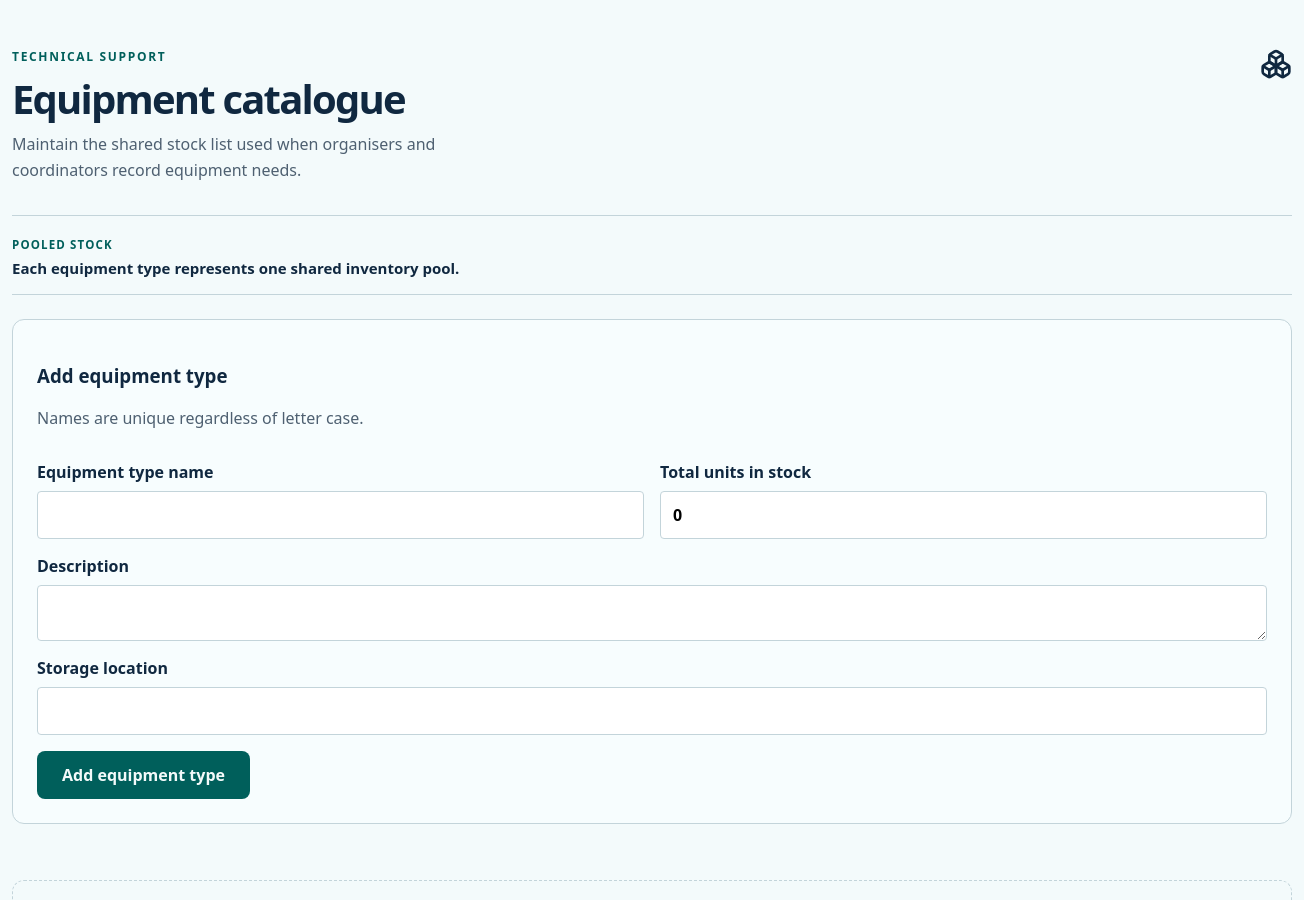
Scenario: EquipmentCatalogue › creates an equipment type and refreshes the catalogue
Type "Wireless Microphone" into the field labelled "Equipment type name" at (340, 515), box [37,491,644,539]
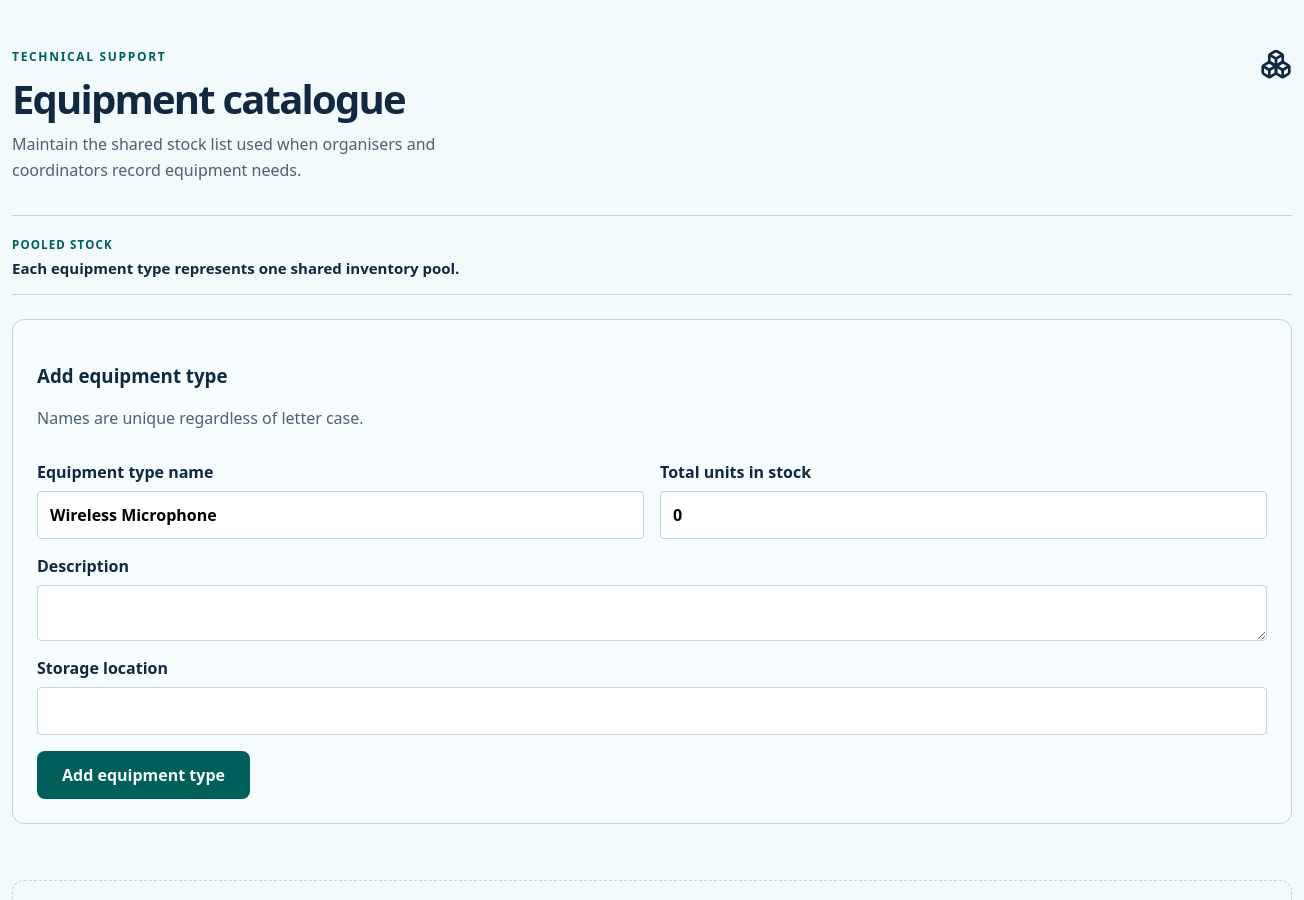
Type "Handheld wireless microphone." into the text box labelled "Description" at (652, 613), box [37,585,1267,641]
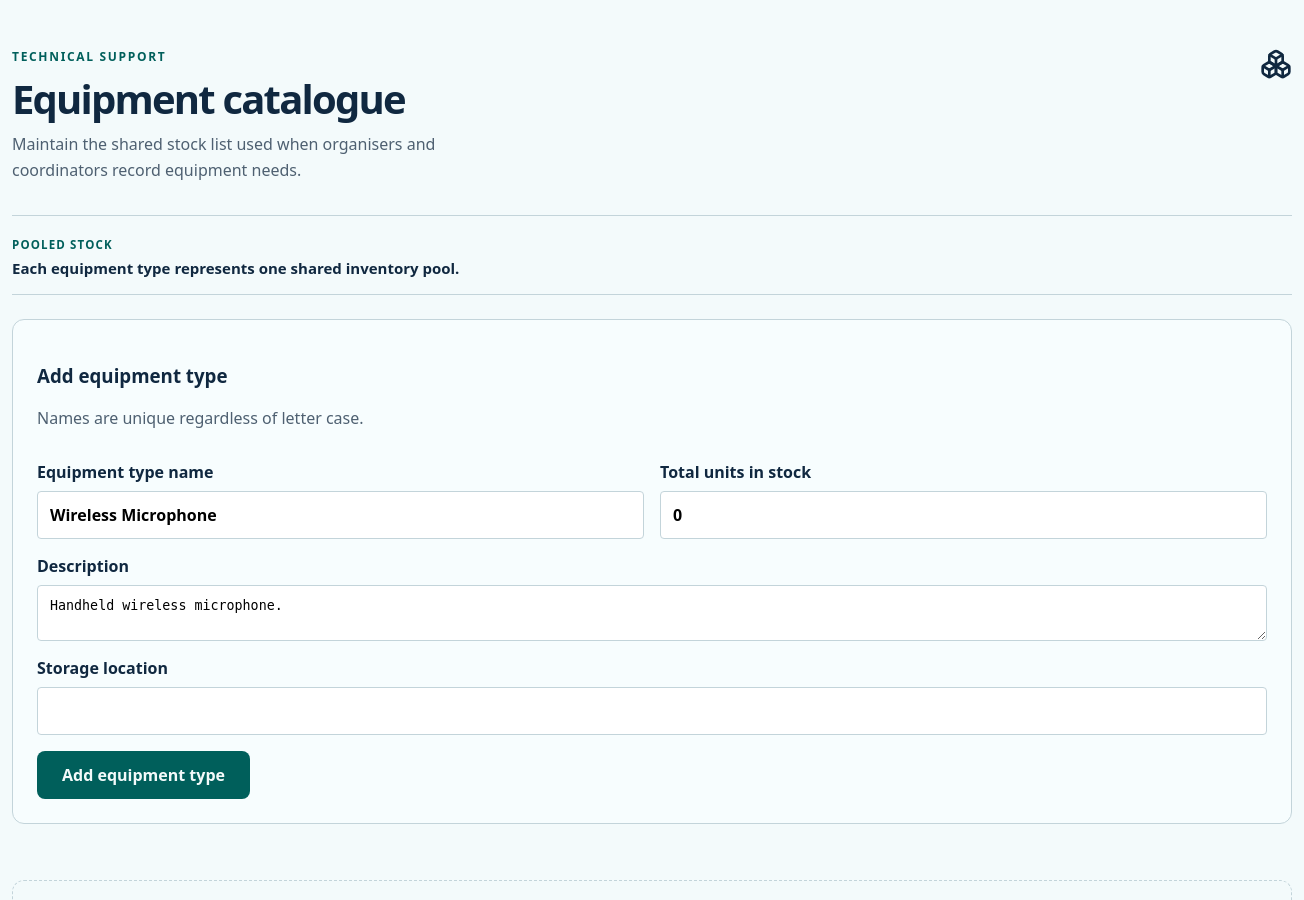
Type "Technical Store A" into the field labelled "Storage location" at (652, 711), box [37,687,1267,735]
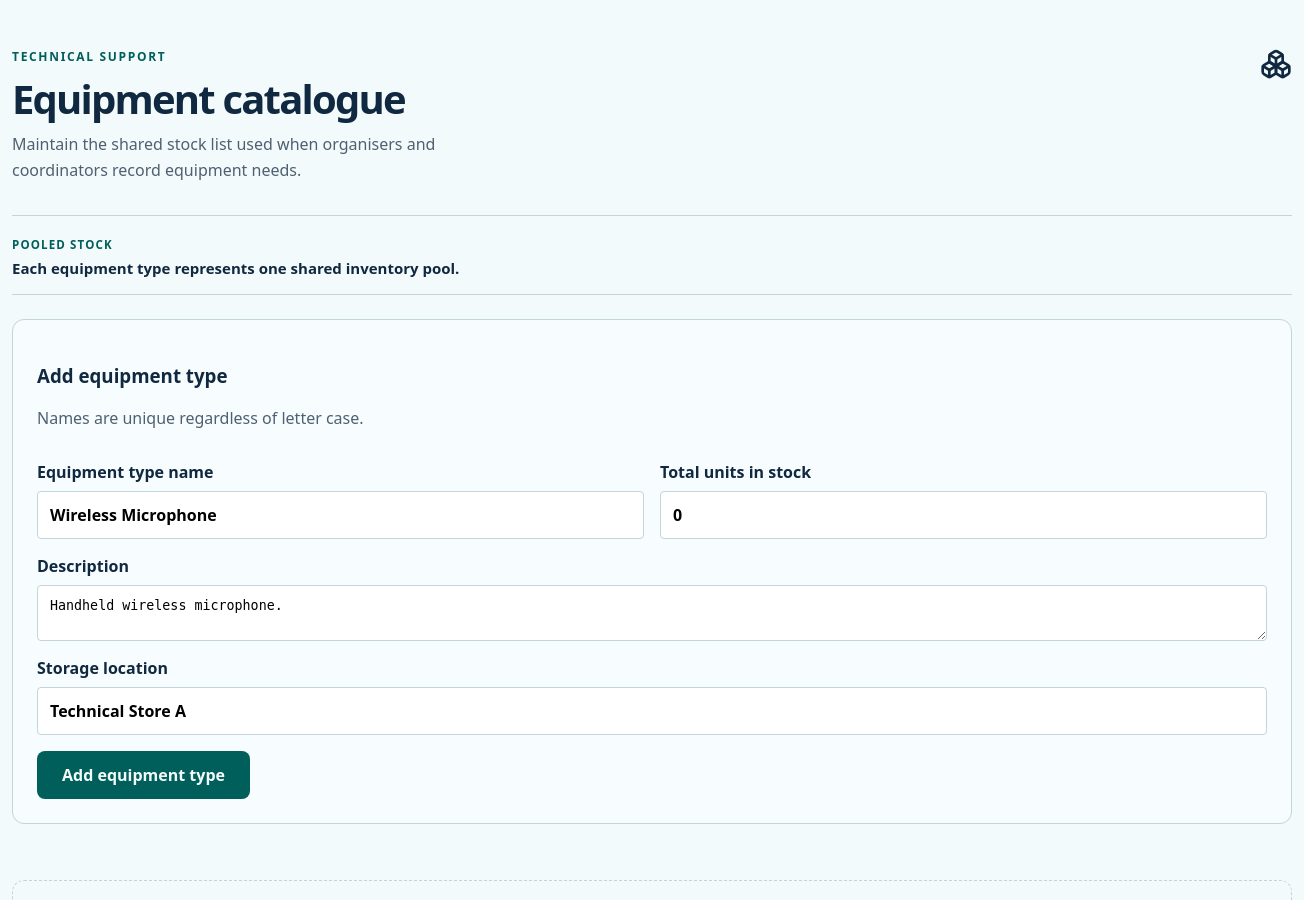
Replace the text in the number field labelled "Total units in stock" with "12" at (964, 515), box [660,491,1267,539]
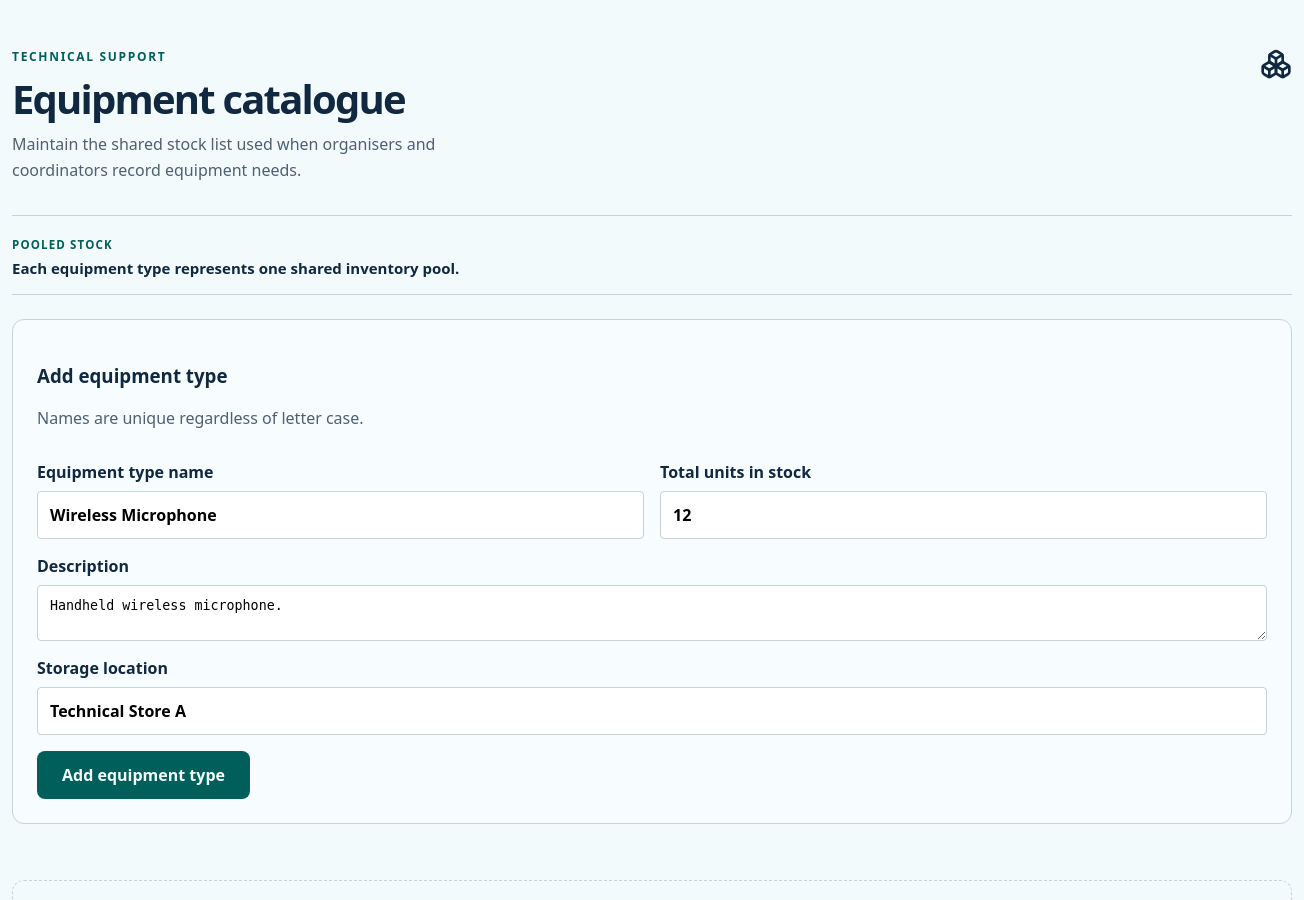
Click the button "Add equipment type" at (144, 775), box [37,751,250,799]
(page scrolled)
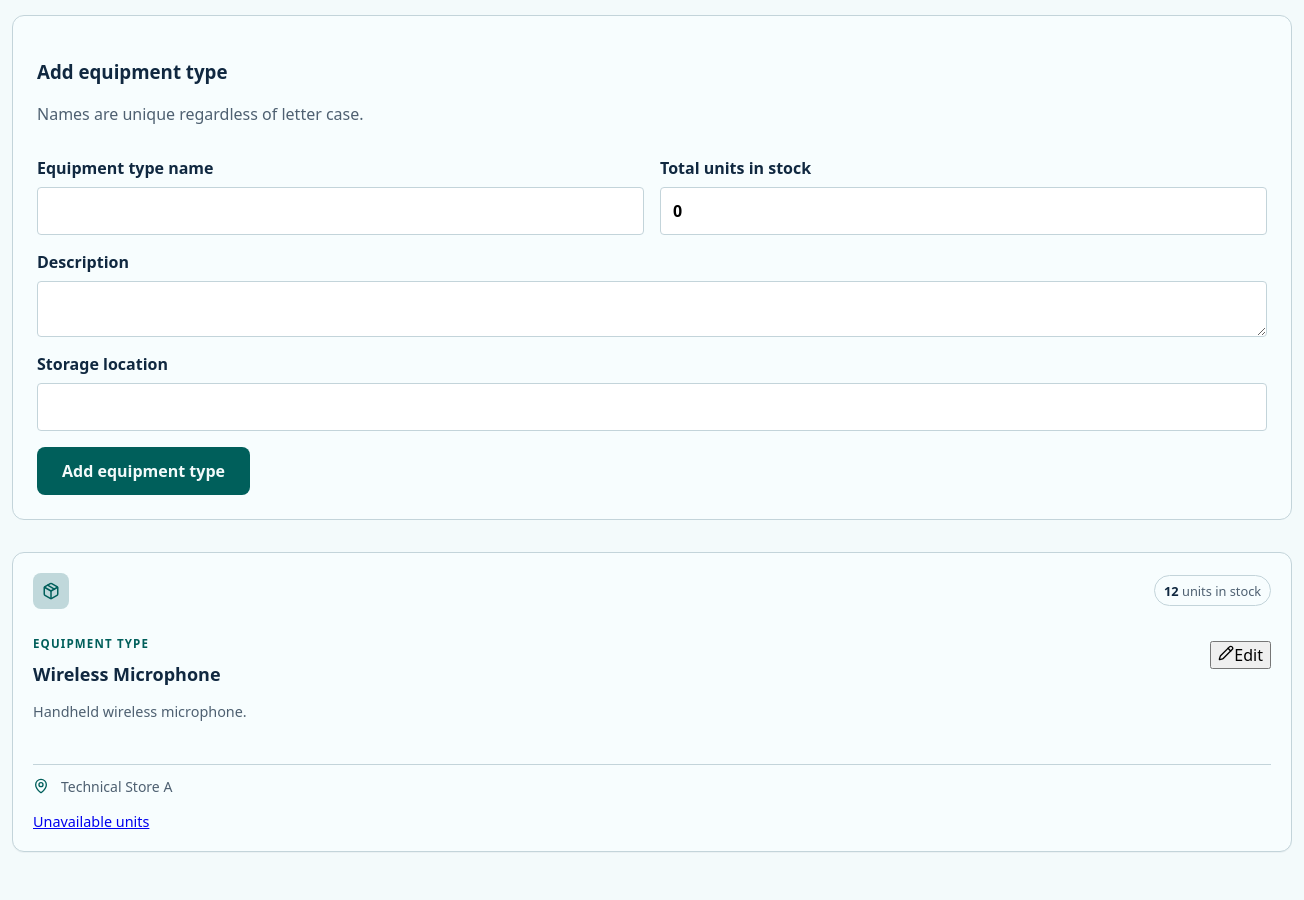
Check: the heading "Wireless Microphone" is shown, box [33,663,220,685]
